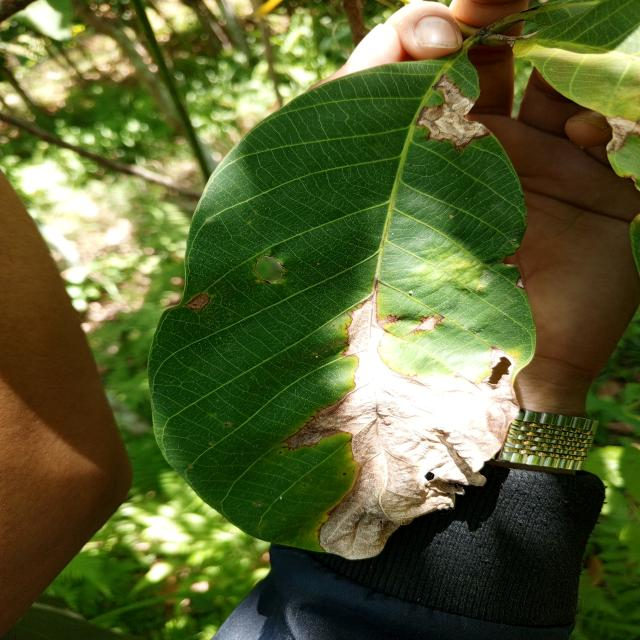Colletotrichum: (343, 473, 346, 475)
Corynespora: (401, 316, 445, 338), (383, 314, 406, 324)
Leaf-Blight: (288, 287, 520, 560), (418, 75, 490, 145)
